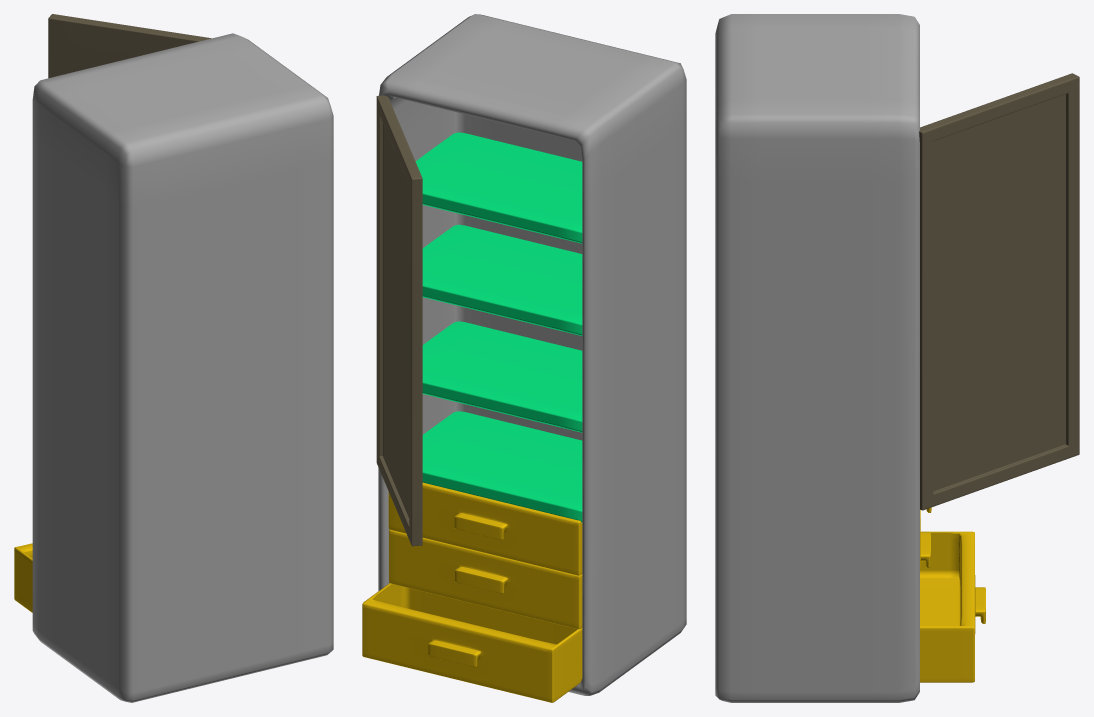
File: Cupbpoard Shelves.fbx
3 renders of one model, left to right at view 1: azimuth 30°, elevation 25°; view 2: azimuth 150°, elevation 25°; view 3: azimuth 270°, elevation 25°, orthographic. The views are drawn at different scales.
Visible parts, largest first — view 1: Cupbpoard_shelves; view 2: Cupbpoard_shelves; view 3: Cupbpoard_shelves.
Part boxes in pixels (x1=…): Cupbpoard_shelves: x1=14, y1=14, x2=333, y2=702; Cupbpoard_shelves: x1=362, y1=14, x2=686, y2=702; Cupbpoard_shelves: x1=715, y1=14, x2=1079, y2=702.
Size of the model in its own units: 119 by 300 by 169.
